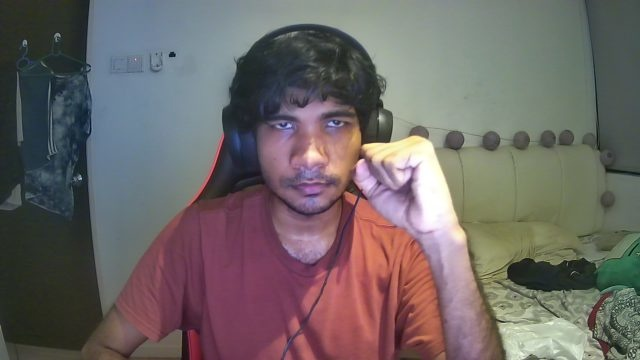Goodbye: (349, 135, 468, 243)
